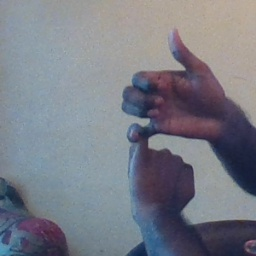S: (110, 20, 230, 214)
